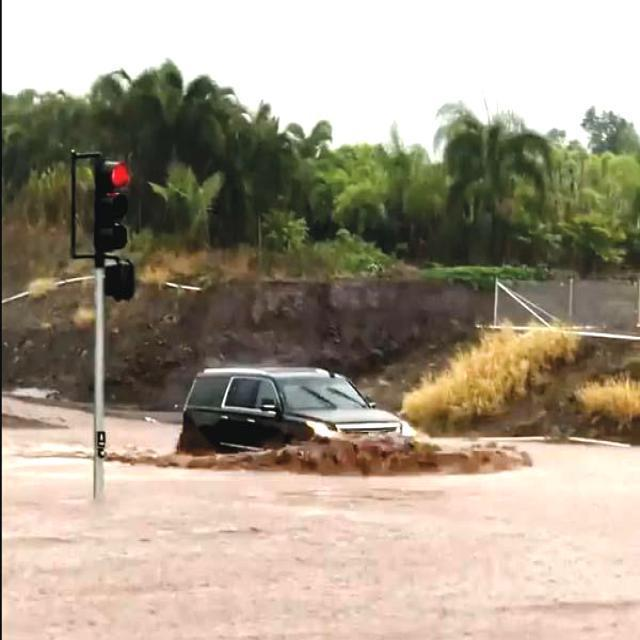water: (1, 395, 638, 636)
